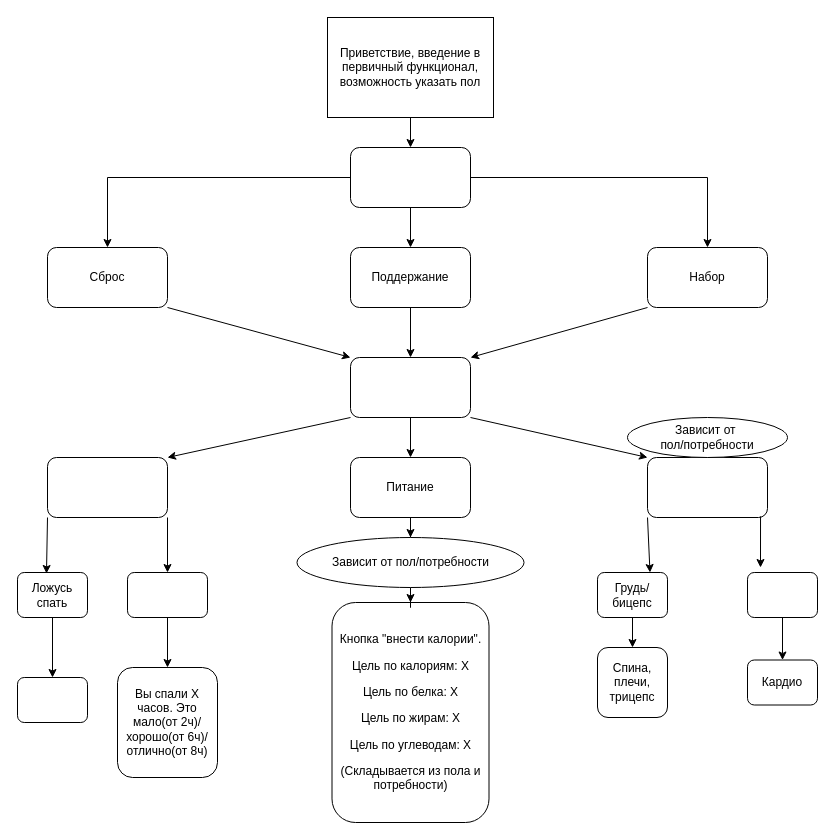
Some shapes in this 835 by 840 pixel diagram are drawn without their labels. Here are the shapes that lost their labels. From the top down, the centre of each, then its label:
At [410,177]: "Пол М/Ж".
At [410,387]: "Самопрезентация, введение в функционал".
At [107,487]: "Сон".
At [707,487]: "Тренировки".
At [167,595]: "Проснулся (лась)".
At [782,595]: "Ноги".
At [52,699]: "Приятных снов".
